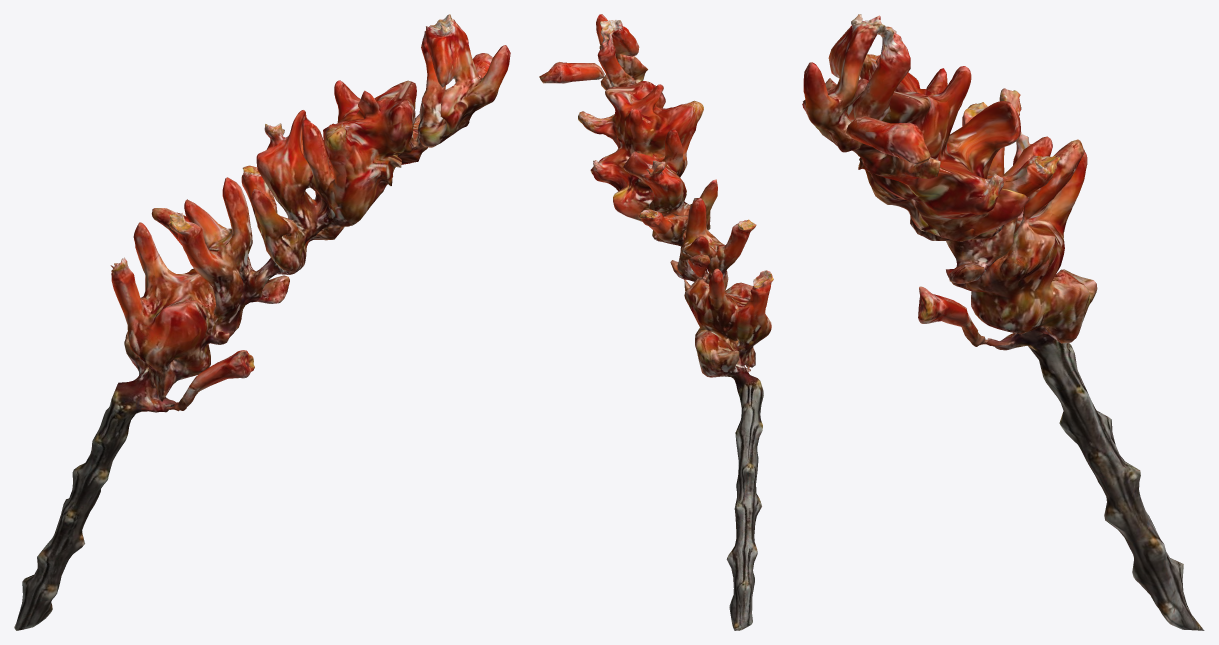
The model's file is stem.obj.
3 renders of one model, left to right at view 1: azimuth 30°, elevation 25°; view 2: azimuth 150°, elevation 25°; view 3: azimuth 270°, elevation 25°, orthographic. The views are drawn at different scales.
Parts seen in each view (by area): view 1: Stem_mmGroup0.001; view 2: Stem_mmGroup0.001; view 3: Stem_mmGroup0.001.
Boxes of the visible parts, <box> form: Stem_mmGroup0.001: <box>14,14,510,630</box>; Stem_mmGroup0.001: <box>539,14,773,630</box>; Stem_mmGroup0.001: <box>802,14,1204,630</box>.
Bounding box in the file's own units: 1.57 × 2.48 × 1.14.
2 materials, 2 textured.
